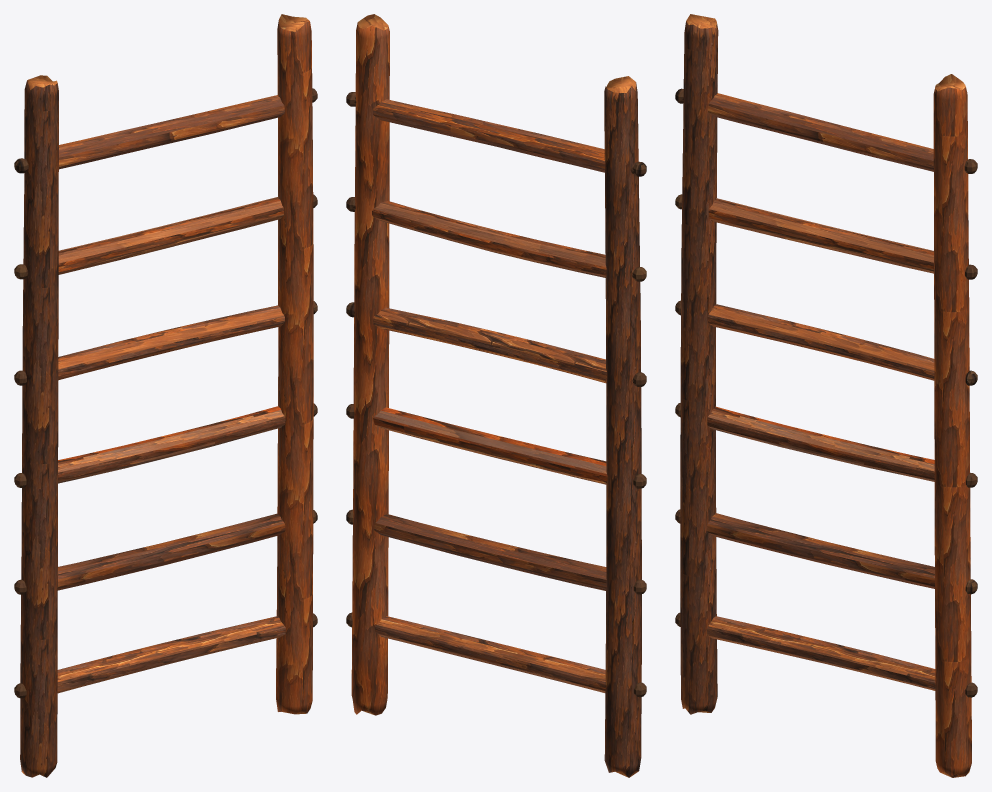
Rendered from ladder__plank_root.glb.
The picture shows the model from 3 angles, left to right: view 1: azimuth 30°, elevation 25°; view 2: azimuth 150°, elevation 25°; view 3: azimuth 330°, elevation 25°; orthographic projection.
Visible parts, largest first — view 1: model; view 2: model; view 3: model.
Boxes of the visible parts, x1=… form: model: x1=14, y1=14, x2=317, y2=777; model: x1=346, y1=14, x2=646, y2=777; model: x1=675, y1=14, x2=977, y2=777.
Size of the model in its own units: 0.898 by 1.98 by 0.1026.
Materials: 17 (17 with a texture image).
